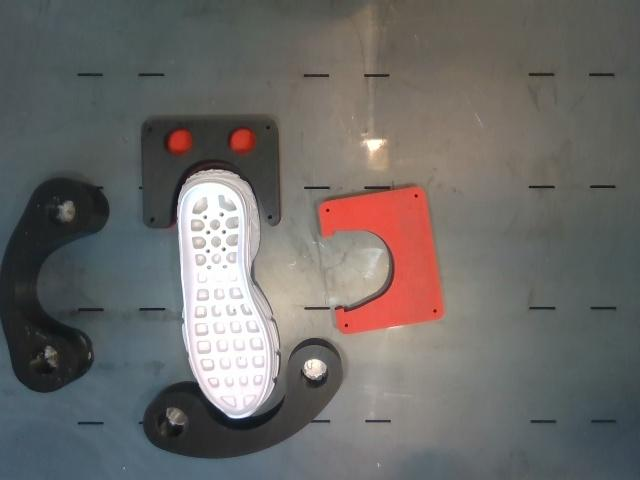shoes: (181, 183, 268, 416)
